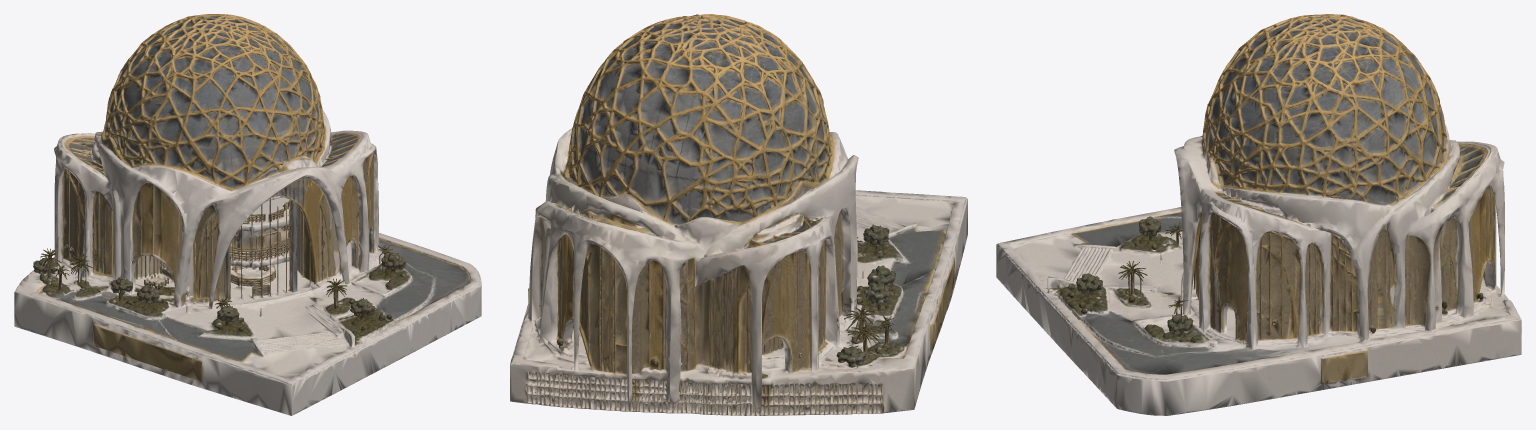
The model's file is library.glb.
3 views of the same model, side by side, from view 1: azimuth 30°, elevation 25°; view 2: azimuth 150°, elevation 25°; view 3: azimuth 270°, elevation 25° (orthographic). The views are drawn at different scales.
Parts seen in each view (by area): view 1: Mesh_0; view 2: Mesh_0; view 3: Mesh_0.
Boxes of the visible parts, bbox=[...] form: Mesh_0: bbox=[14, 14, 481, 415]; Mesh_0: bbox=[510, 14, 967, 415]; Mesh_0: bbox=[996, 14, 1521, 415].
Bounding box in the file's own units: 38.02 × 25.7 × 42.
Materials: 1 (1 with a texture image).
